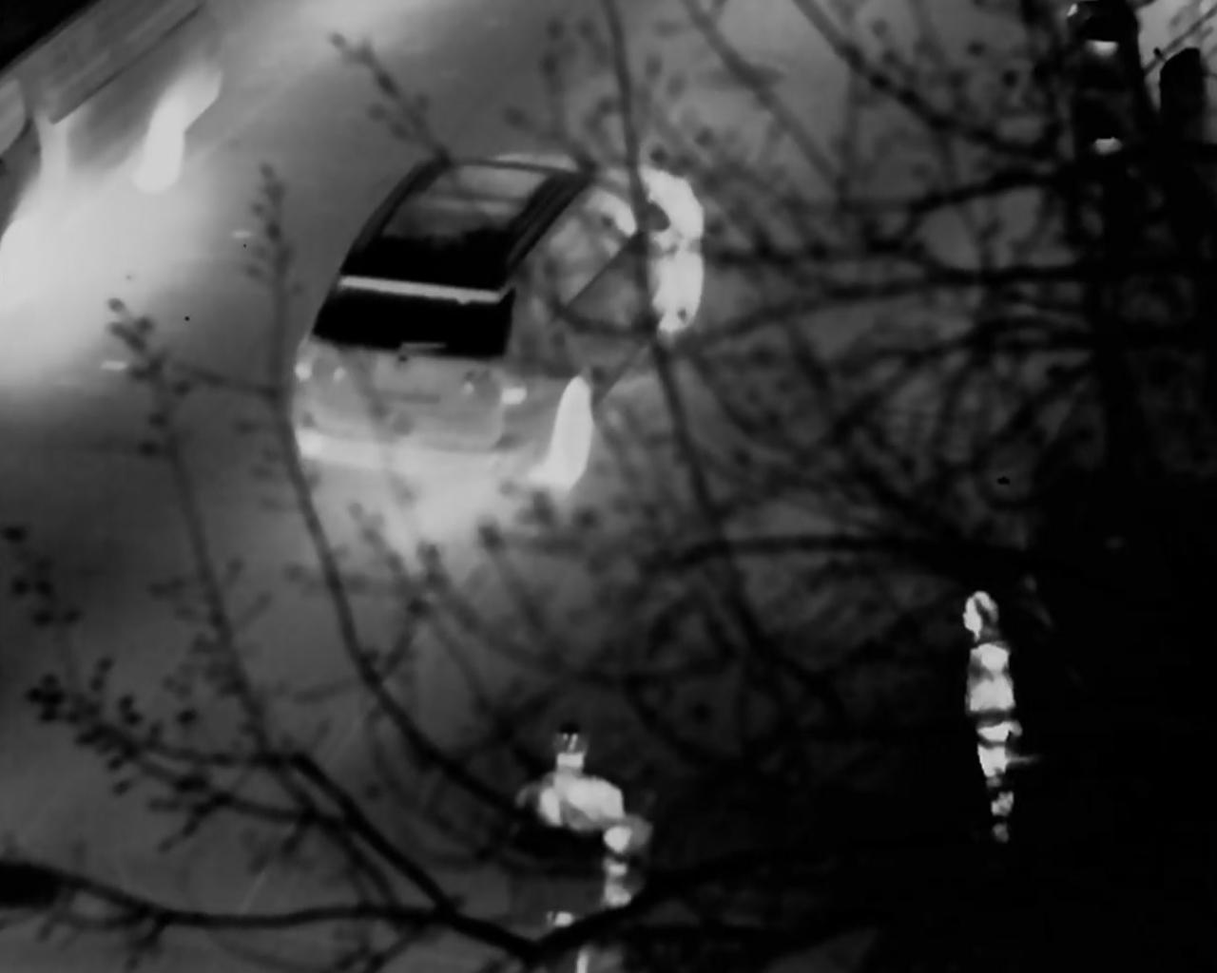person: (529, 722, 635, 921), (955, 597, 1019, 825)
